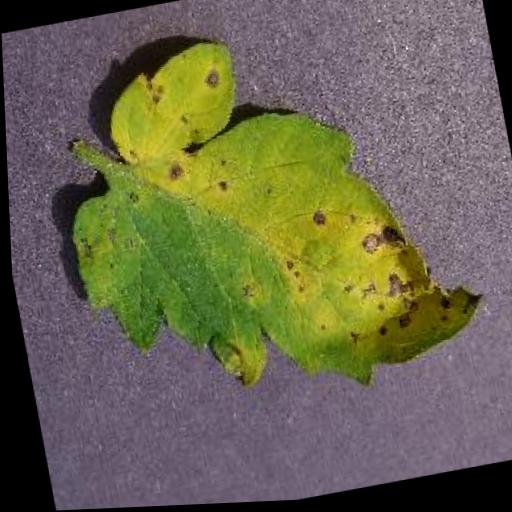Septoria: (38, 0, 487, 435)
